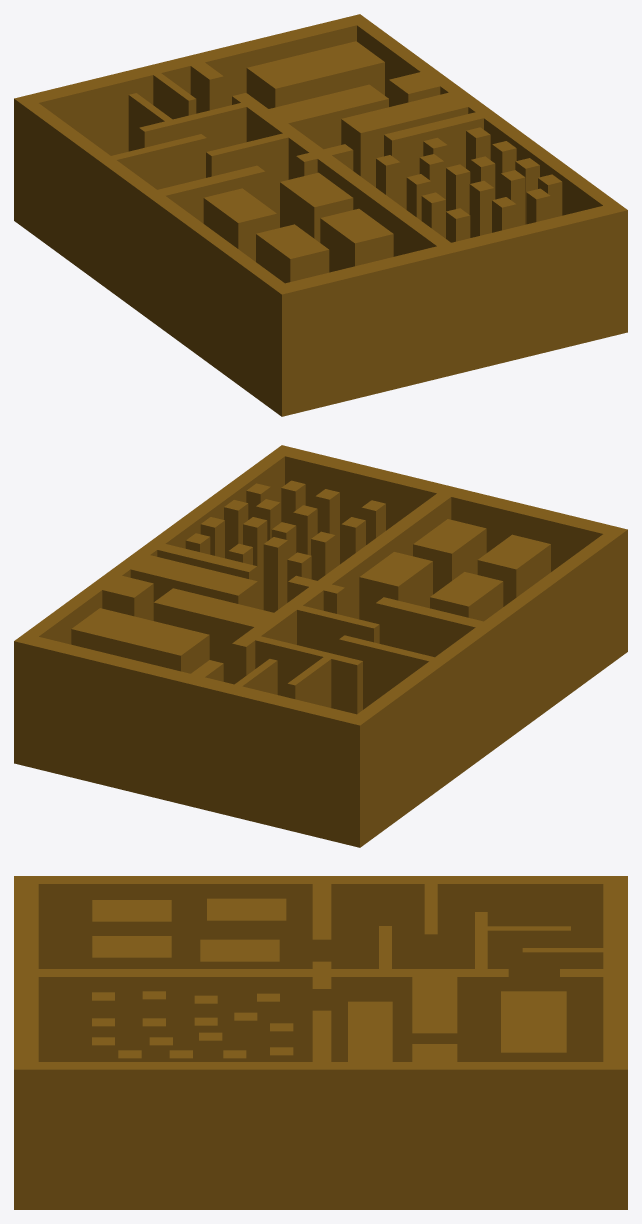
File: Map1.obj
The picture shows the model from 3 angles, top to bottom: view 1: azimuth 30°, elevation 25°; view 2: azimuth 150°, elevation 25°; view 3: azimuth 270°, elevation 25°; orthographic projection. The views are drawn at different scales.
Visible parts, largest first — view 1: MAP.EDGE, S1.O4.25; view 2: MAP.EDGE, S1.O4.25; view 3: MAP.EDGE, S1.O4.25.
Part boxes in pixels (left/top/right/bottom): MAP.EDGE: left=14, top=14, right=627, bottom=416; S1.O4.25: left=102, top=41, right=562, bottom=283; MAP.EDGE: left=14, top=445, right=627, bottom=847; S1.O4.25: left=71, top=480, right=550, bottom=714; MAP.EDGE: left=14, top=876, right=627, bottom=1209; S1.O4.25: left=25, top=877, right=618, bottom=1068.
Size of the model in its own units: 5990 by 2022 by 8030.
